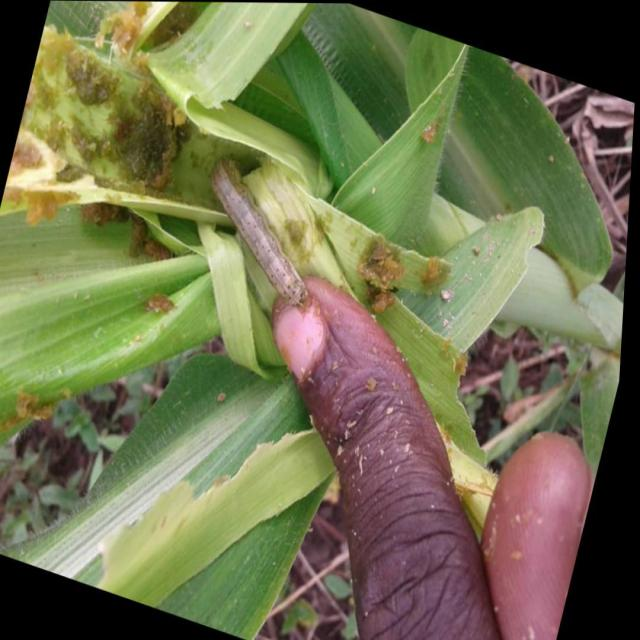yellow-stem-borer-larva: (187, 136, 317, 302)
